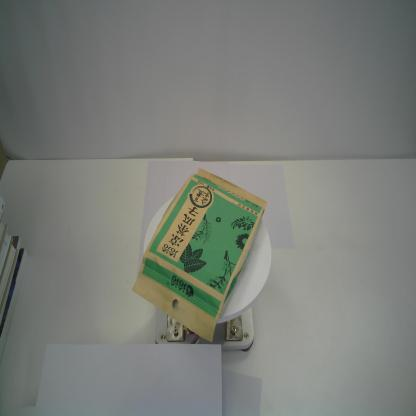Dried Food: (132, 166, 268, 344)
